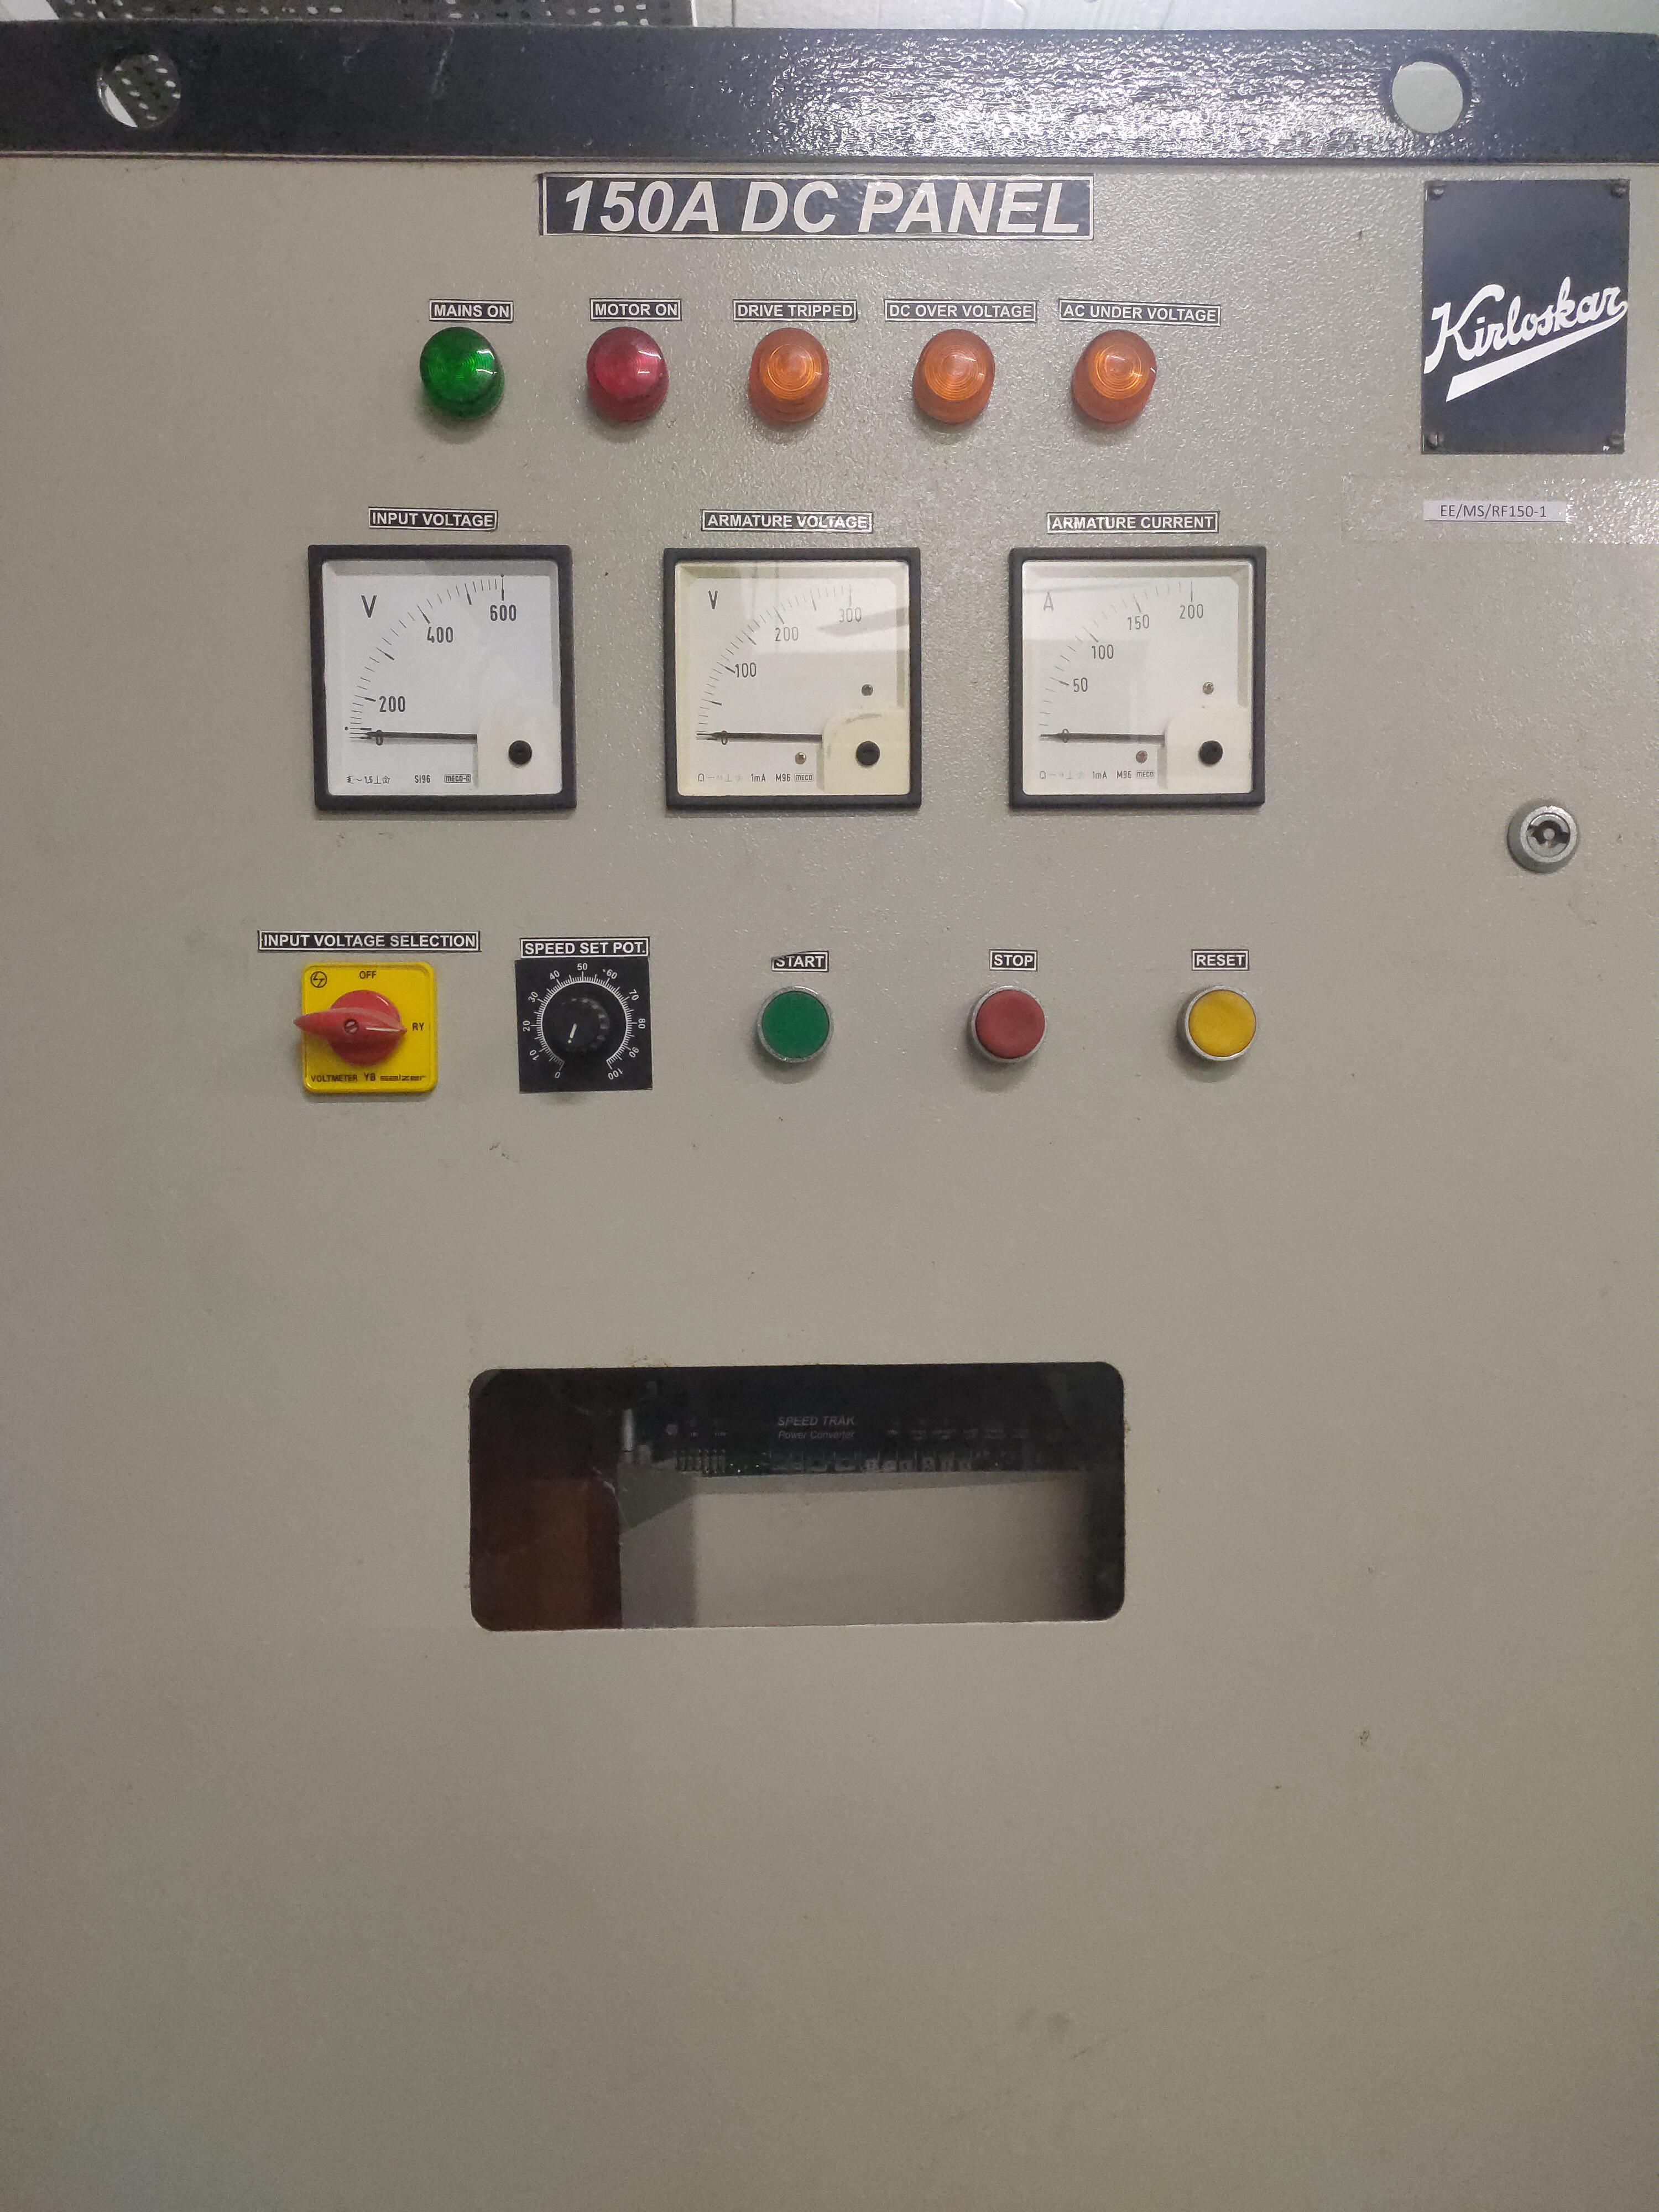Light Indications: (349, 277, 1195, 484)
